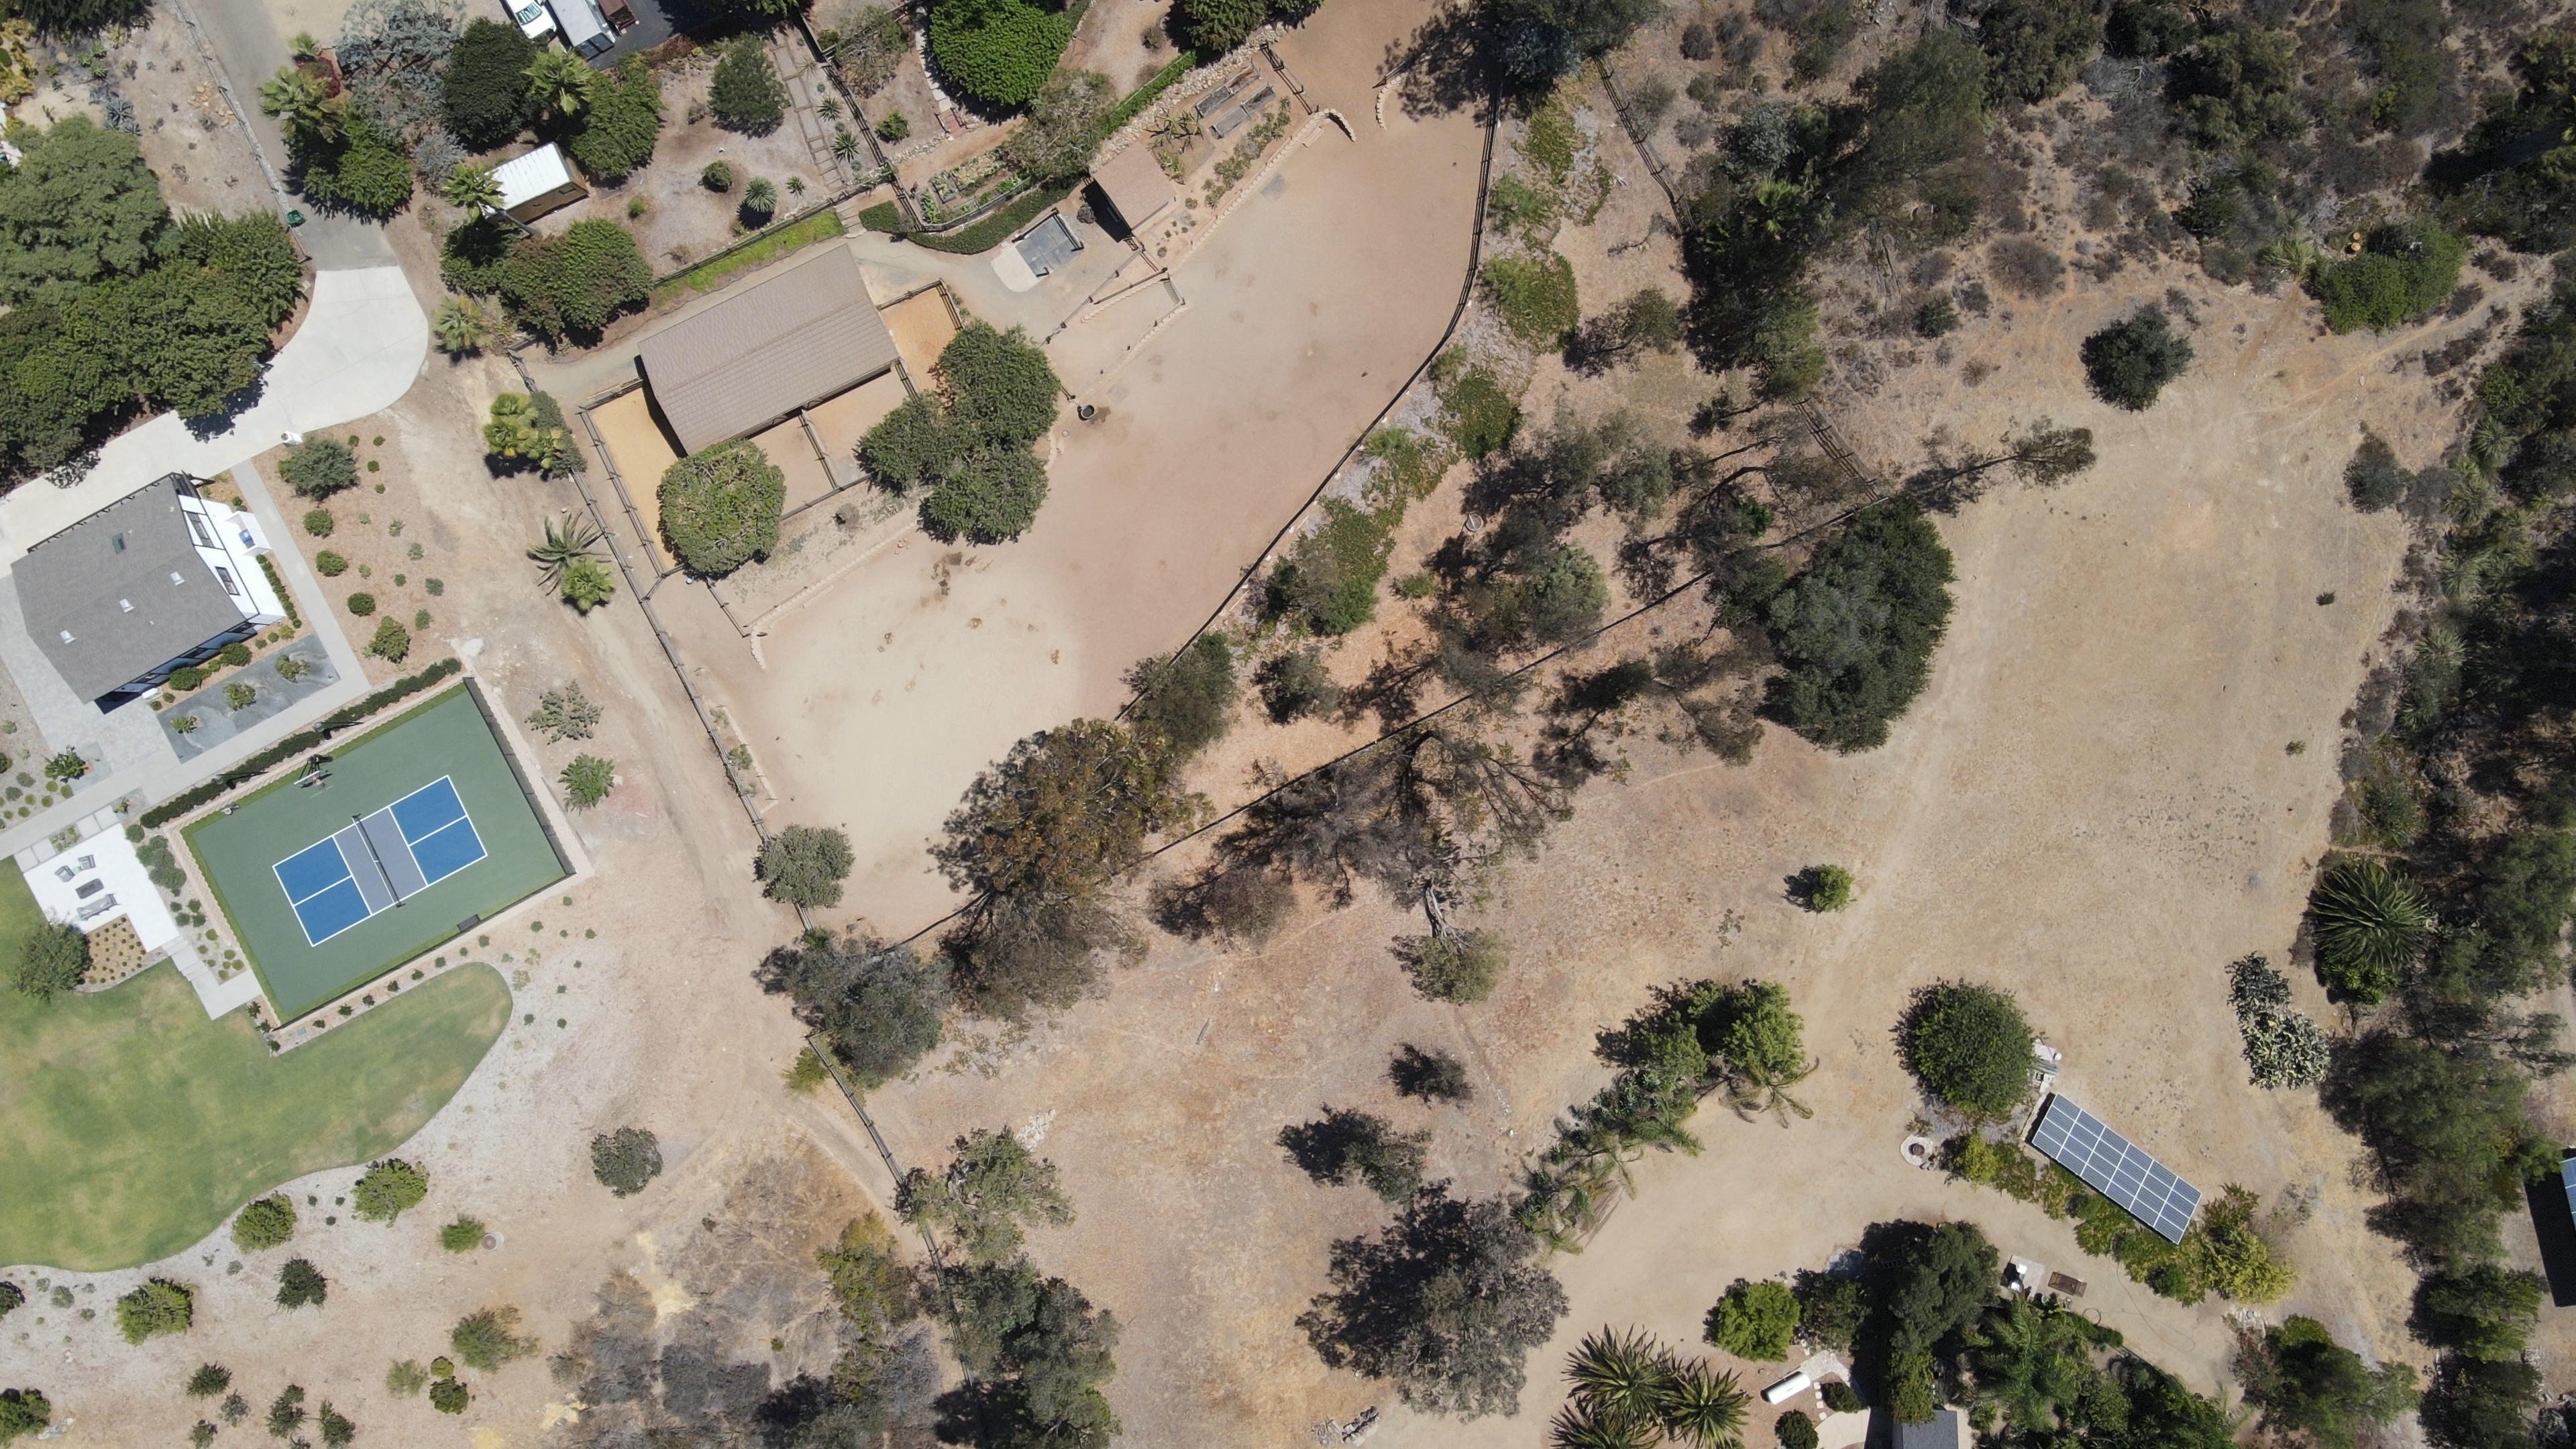solar-panels: (2031, 1091, 2202, 1245)
